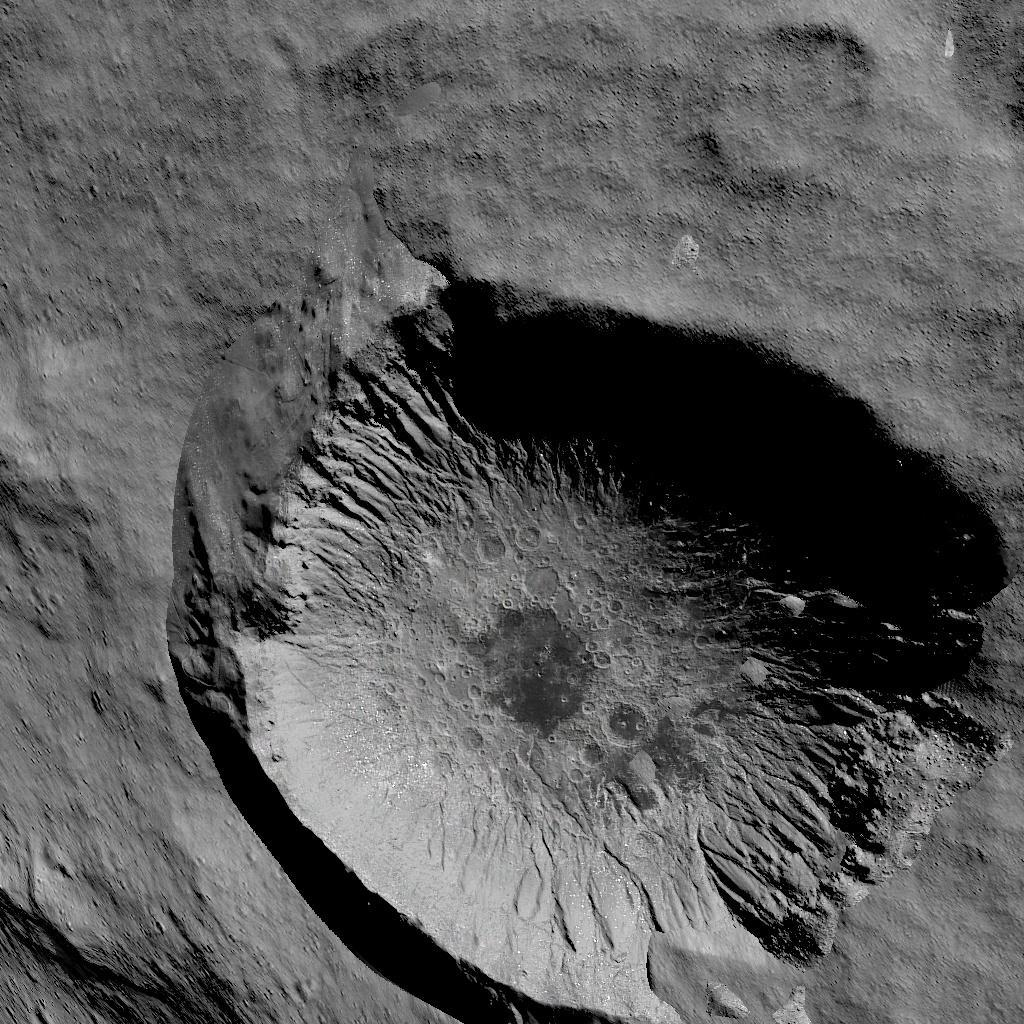Crater: (165, 273, 1024, 1024)
Plan surface: (9, 0, 1024, 260), (0, 270, 147, 858)
